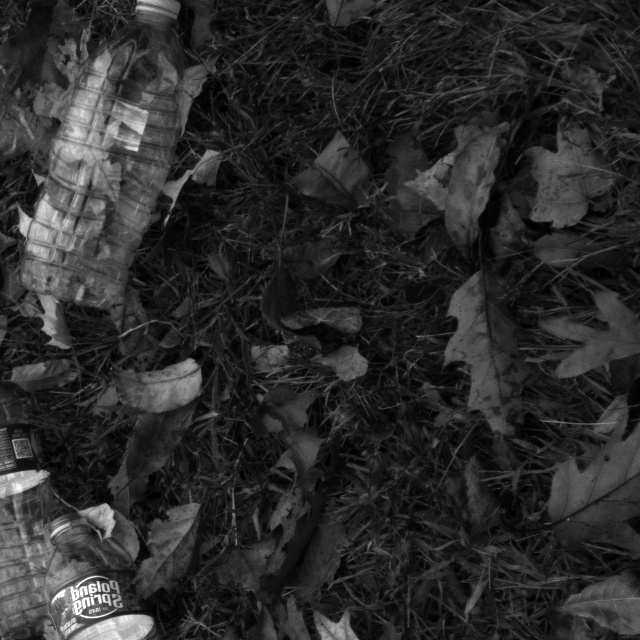bottle: (16, 0, 192, 305), (0, 360, 76, 640), (37, 517, 187, 640)
